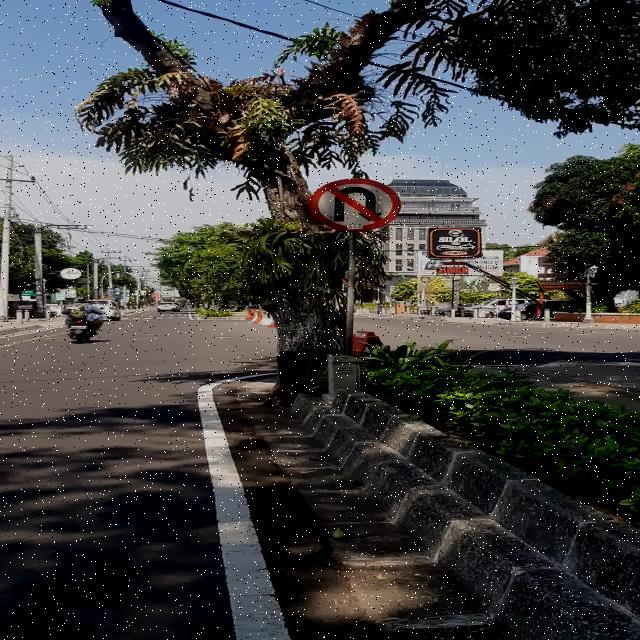Dilarang Putar Balik: (308, 178, 402, 231)
